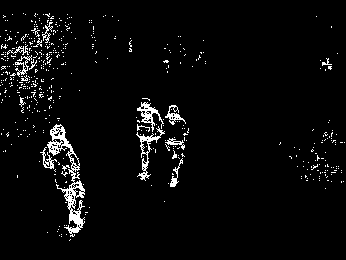person: (42, 124, 87, 238), (134, 96, 165, 180), (160, 103, 191, 187)
